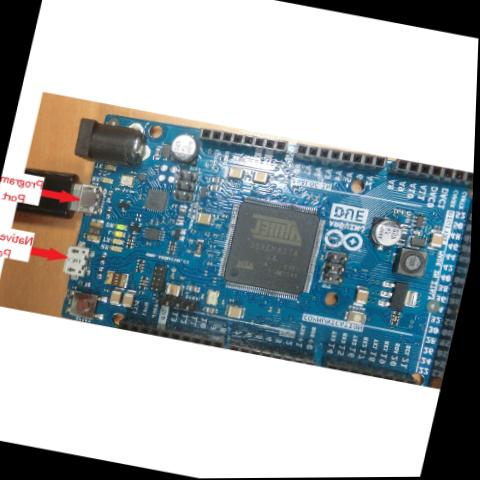Arduino-Due: (34, 96, 477, 392)
